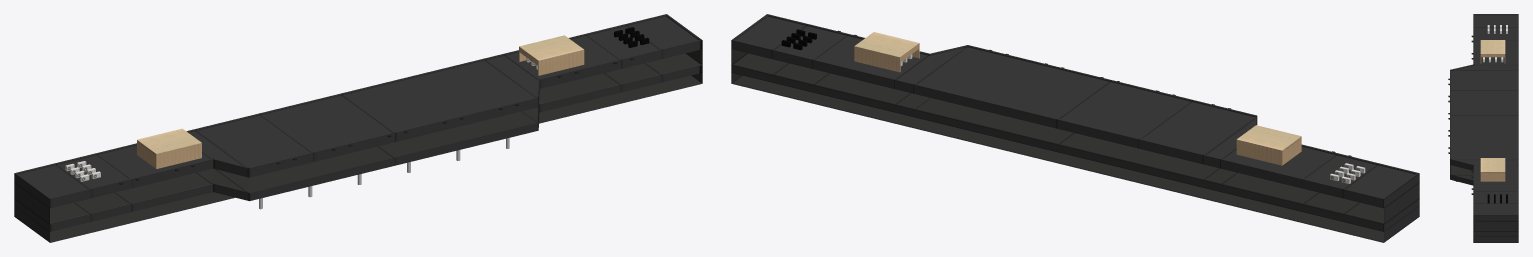
Rendered from connector34.gltf.
3 renders of one model, left to right at view 1: azimuth 30°, elevation 25°; view 2: azimuth 150°, elevation 25°; view 3: azimuth 270°, elevation 25°, orthographic. The views are drawn at different scales.
Parts seen in each view (by area): view 1: Glass, Cube.001, AC Unit.003, AC Unit; view 2: Glass, Cube.001, AC Unit.003, AC Unit; view 3: Glass, Cube.001, AC Unit, AC Unit.003, AC Unit.002.
Boxes of the visible parts, x1,y1,x2,y2 form: Glass: (14,14,702,242); Cube.001: (137,35,584,168); AC Unit.003: (65,161,100,181); AC Unit: (614,27,649,47); Glass: (731,14,1419,242); Cube.001: (854,32,1301,165); AC Unit.003: (1330,163,1365,183); AC Unit: (781,29,816,50); Glass: (1450,14,1518,242); Cube.001: (1480,40,1505,181); AC Unit: (1487,194,1507,203); AC Unit.003: (1487,25,1507,33); AC Unit.002: (1483,57,1503,62).
Bounding box in the file's own units: 200 × 18.04 × 29.44.
